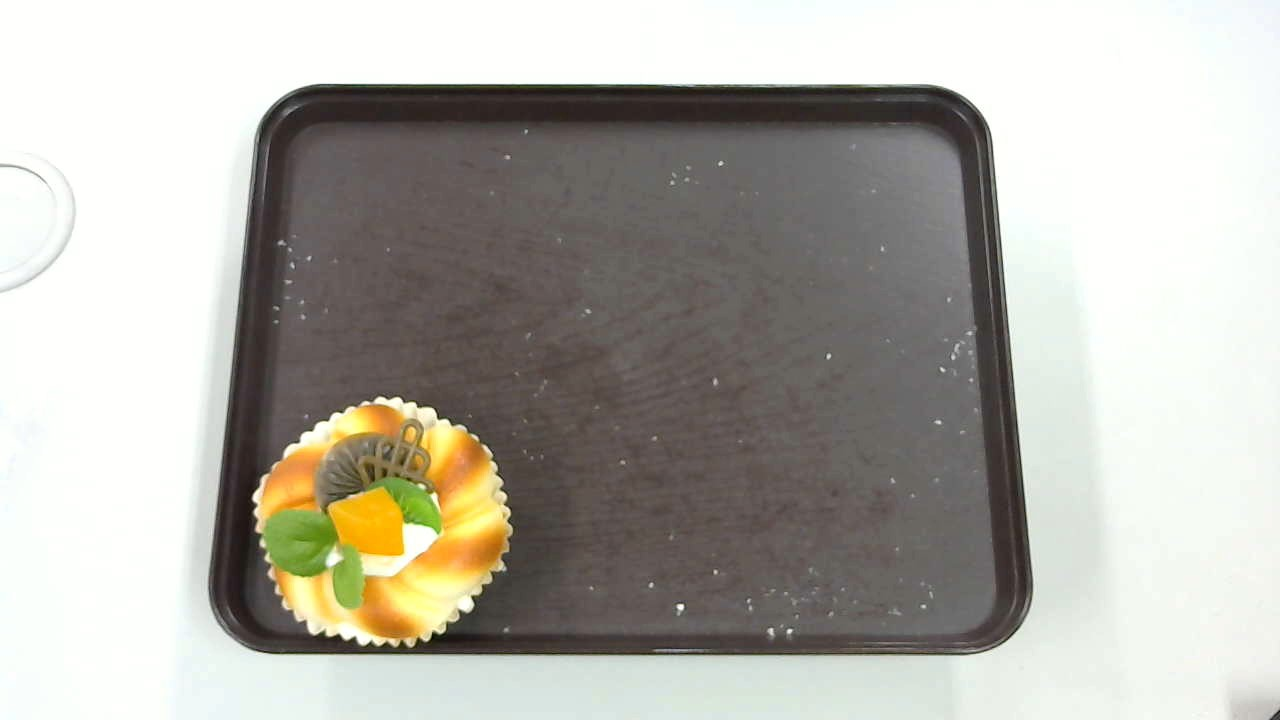fruit tart: (252, 397, 515, 650)
